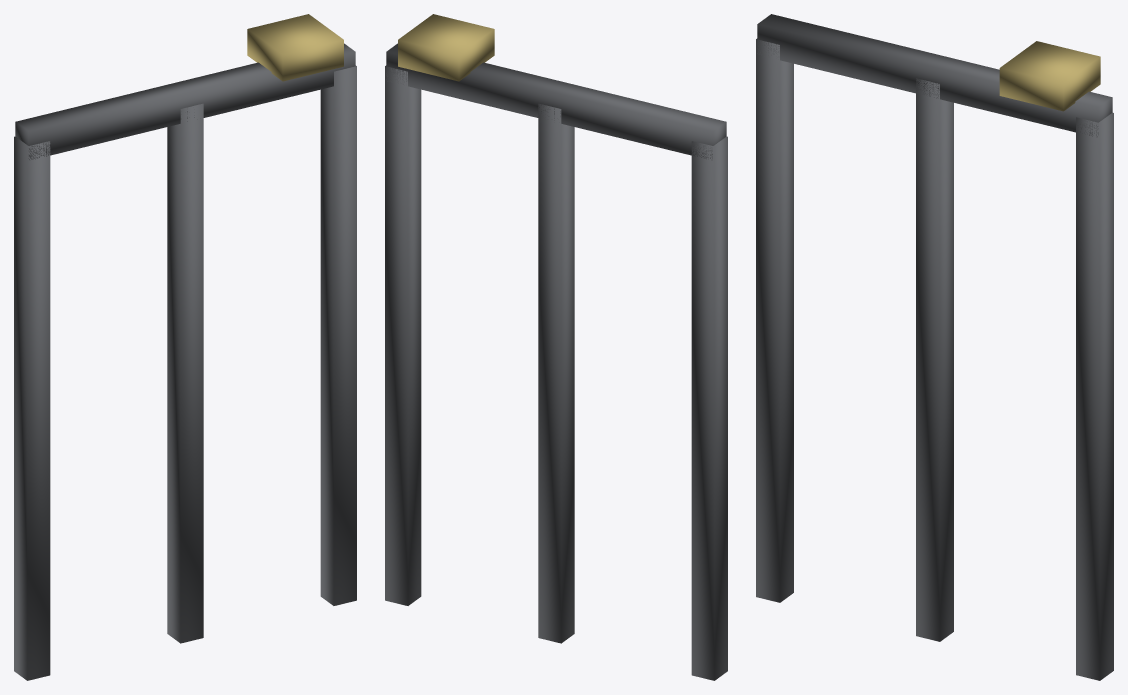
File: steel_portal_break_l60.glb
3 views of the same model, side by side, from view 1: azimuth 30°, elevation 25°; view 2: azimuth 150°, elevation 25°; view 3: azimuth 330°, elevation 25° (orthographic). The views are drawn at different scales.
Parts seen in each view (by area): view 1: world; view 2: world; view 3: world.
Part boxes in pixels (left/top/right/bottom): world: left=14, top=14, right=356, bottom=680; world: left=385, top=14, right=727, bottom=680; world: left=756, top=14, right=1113, bottom=680.
Size of the model in its own units: 0.645 by 1.08 by 0.12.
